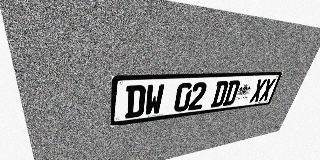0: (173, 82, 193, 112)
2: (188, 82, 208, 111)
D: (125, 85, 146, 119), (210, 81, 229, 108), (222, 80, 241, 106)
W: (144, 84, 165, 116)
X: (249, 79, 267, 103), (258, 78, 276, 101)
